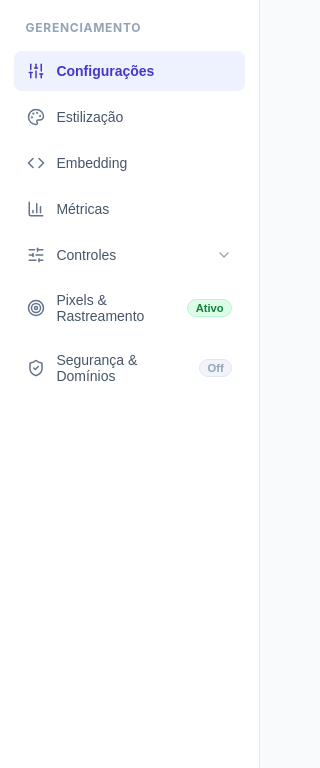
Test: VideoDetailSidebar - Grupo de Controles Expansível › ao clicar novamente em Controles, fecha o submenu (toggle)
The width and height of the screenshot is (320, 768).
Click the button with test id "tab-btn-controls".
click(130, 255)  # box left=14, top=235, right=245, bottom=275
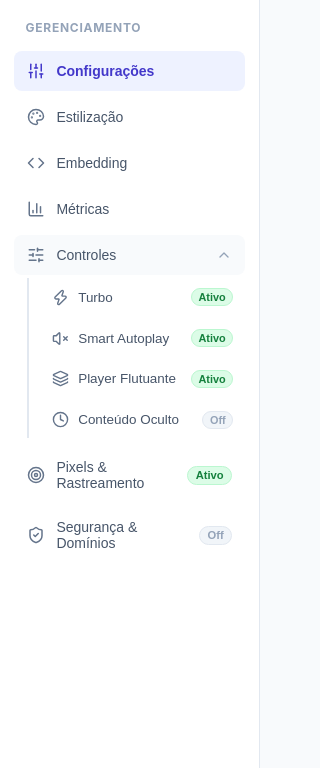
Result: the element with test id "controls-submenu" is shown at left=27, top=278, right=245, bottom=438
Click the button with test id "tab-btn-controls".
click(130, 255)  # box left=14, top=235, right=245, bottom=275
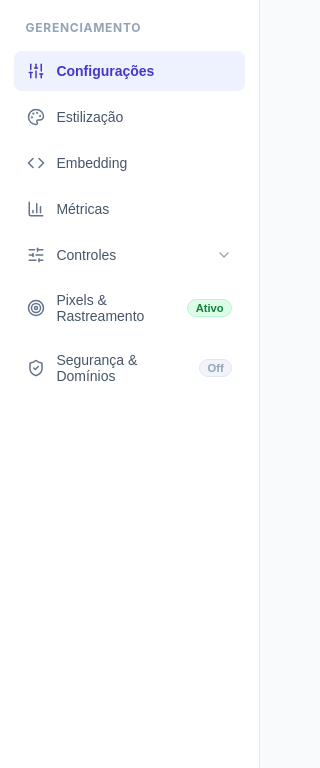
Result: the element with test id "controls-submenu" is gone
